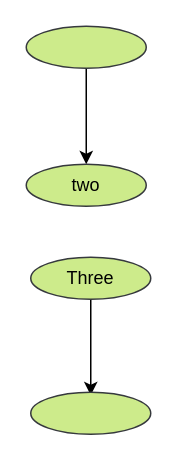
Image size: 177x461. Some labels were removed from this diagram. Here are the shapes that lost their labels. From the top down, the box of each, then its label:
(25, 25, 146, 68): One
(29, 391, 151, 434): Four
